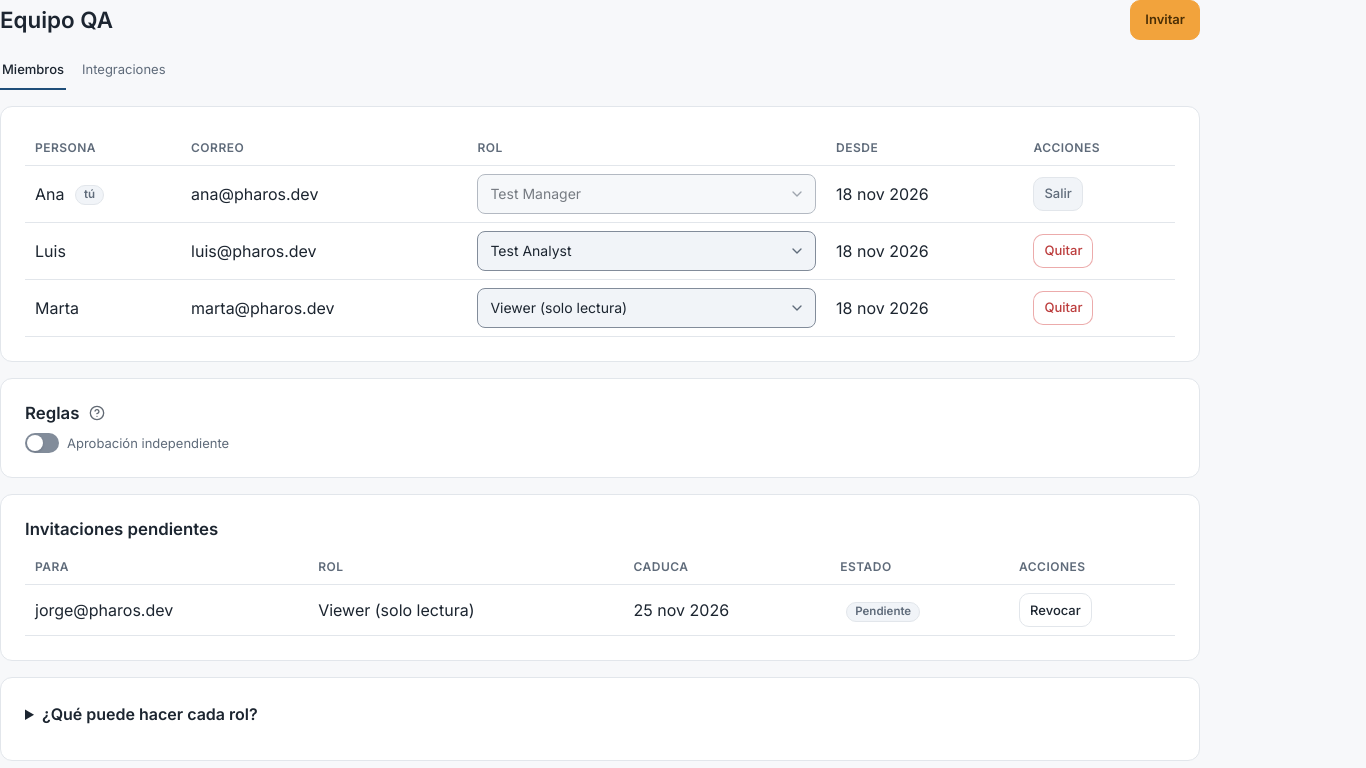
Test case: members and roles › a Test Manager changes roles, removes people and invites
Expected: the heading "Equipo QA" is shown, [0,6,113,34]
Expected: the row with test id "member-luis" shows "Luis", [35,240,66,260]
Click the button with test id "members-invite": (1165, 20) [1130,0,1200,40]
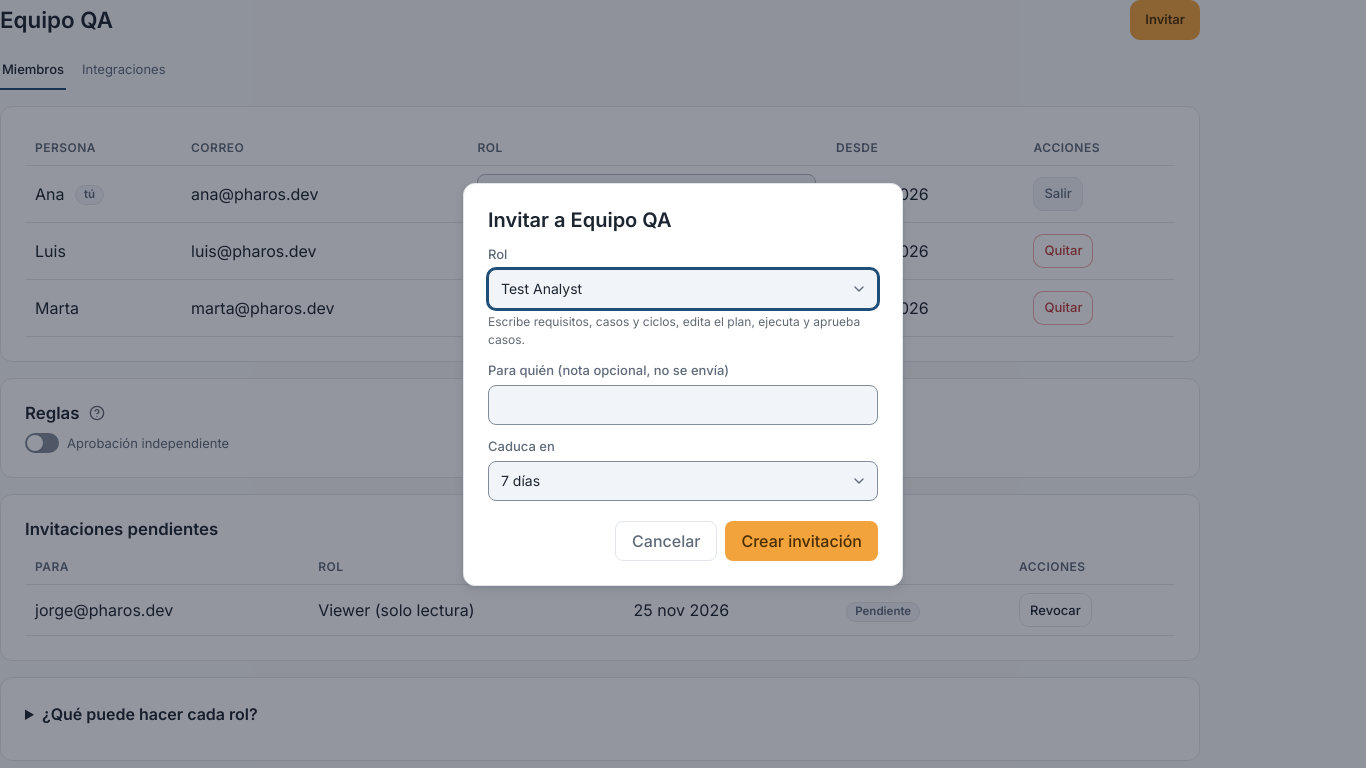
In the field labelled "Para quién (nota opcional, no se envía)": (683, 404) [488,384,878,424], type "jorge@pharos.dev"
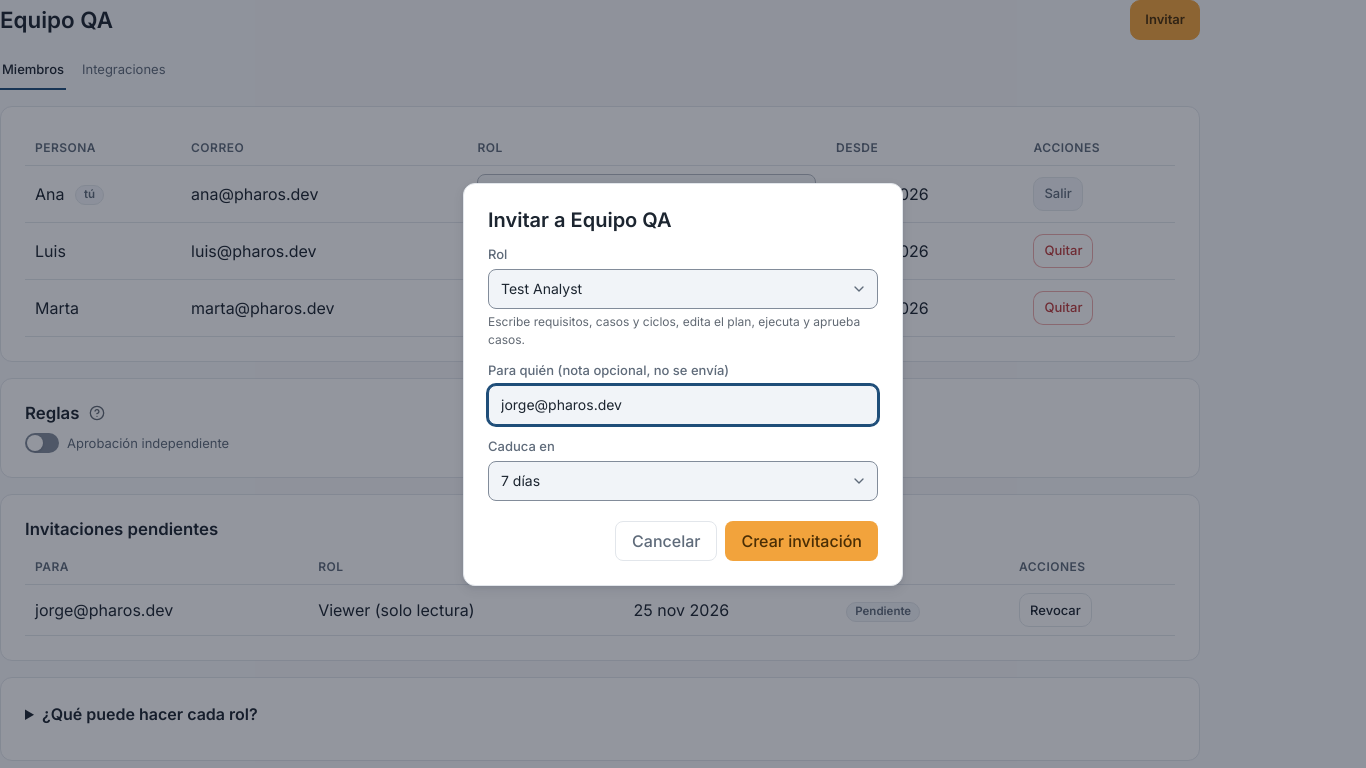
Click the button with test id "invite-create": (802, 540) [726,520,878,560]
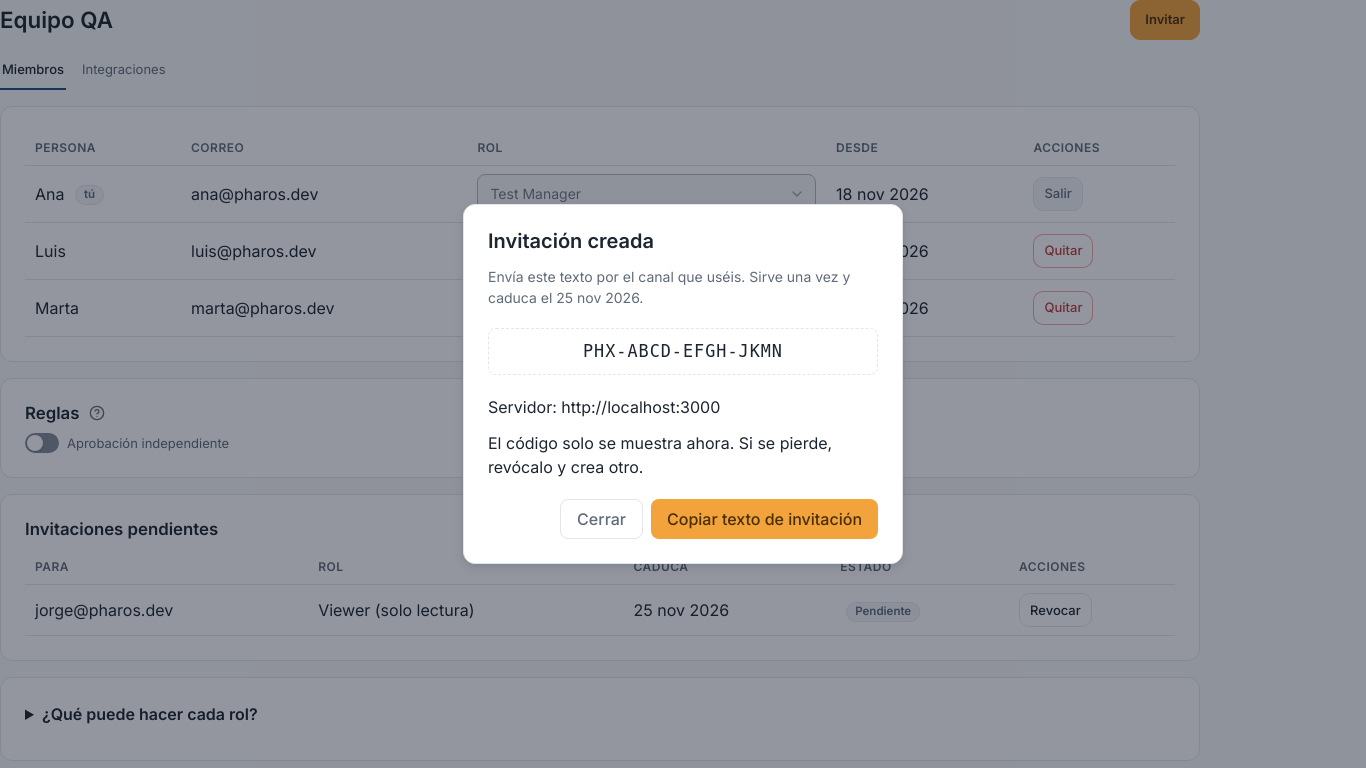
Expected: the text "PHX-ABCD-EFGH-JKMN" is shown, [488,328,878,375]
